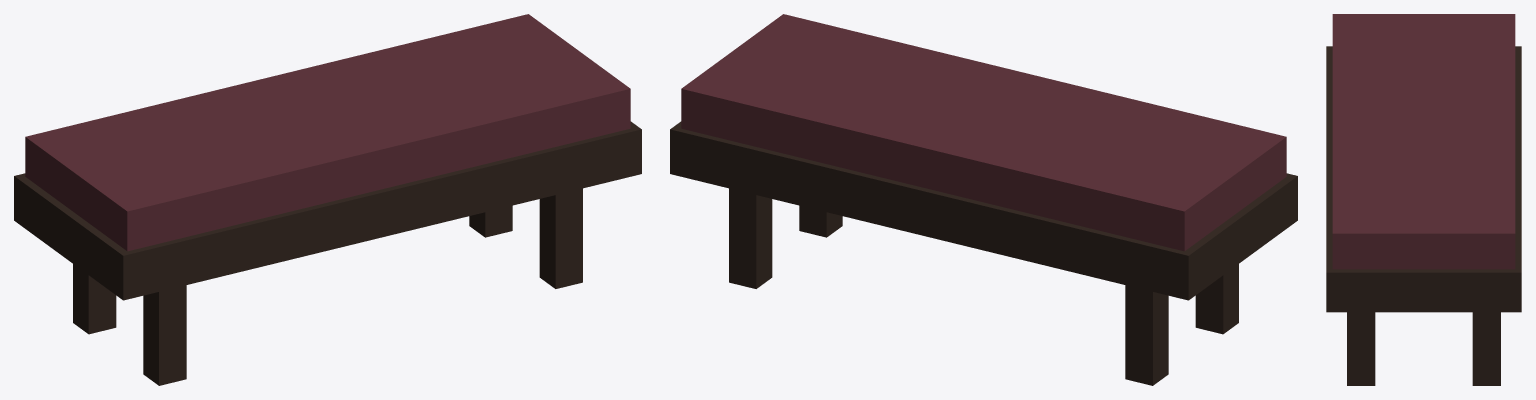
File: bench.glb
The picture shows the model from 3 angles, left to right: view 1: azimuth 30°, elevation 25°; view 2: azimuth 150°, elevation 25°; view 3: azimuth 270°, elevation 25°; orthographic projection. The views are drawn at different scales.
Parts seen in each view (by area): view 1: Velvet museum bench; view 2: Velvet museum bench; view 3: Velvet museum bench.
Boxes of the visible parts, x1,y1,x2,y2 form: Velvet museum bench: [14, 14, 641, 385]; Velvet museum bench: [670, 14, 1297, 385]; Velvet museum bench: [1326, 14, 1521, 385].
Bounding box in the file's own units: 1.7 × 0.595 × 0.62.
